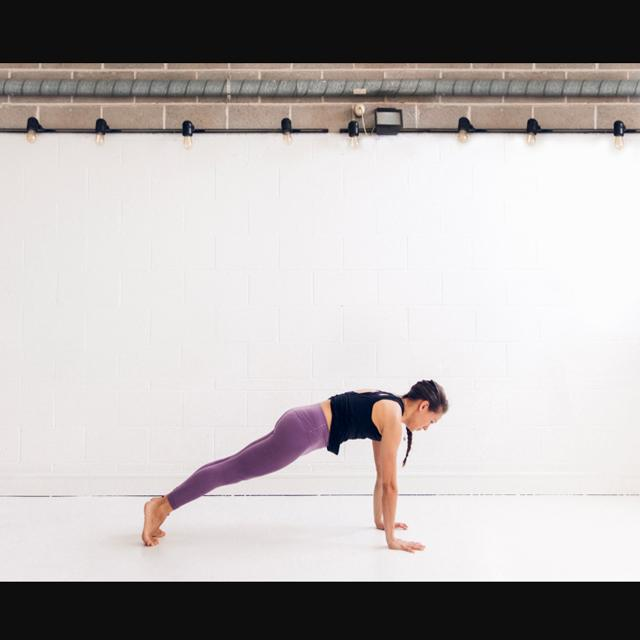Plank_Pose: (138, 377, 444, 558)
